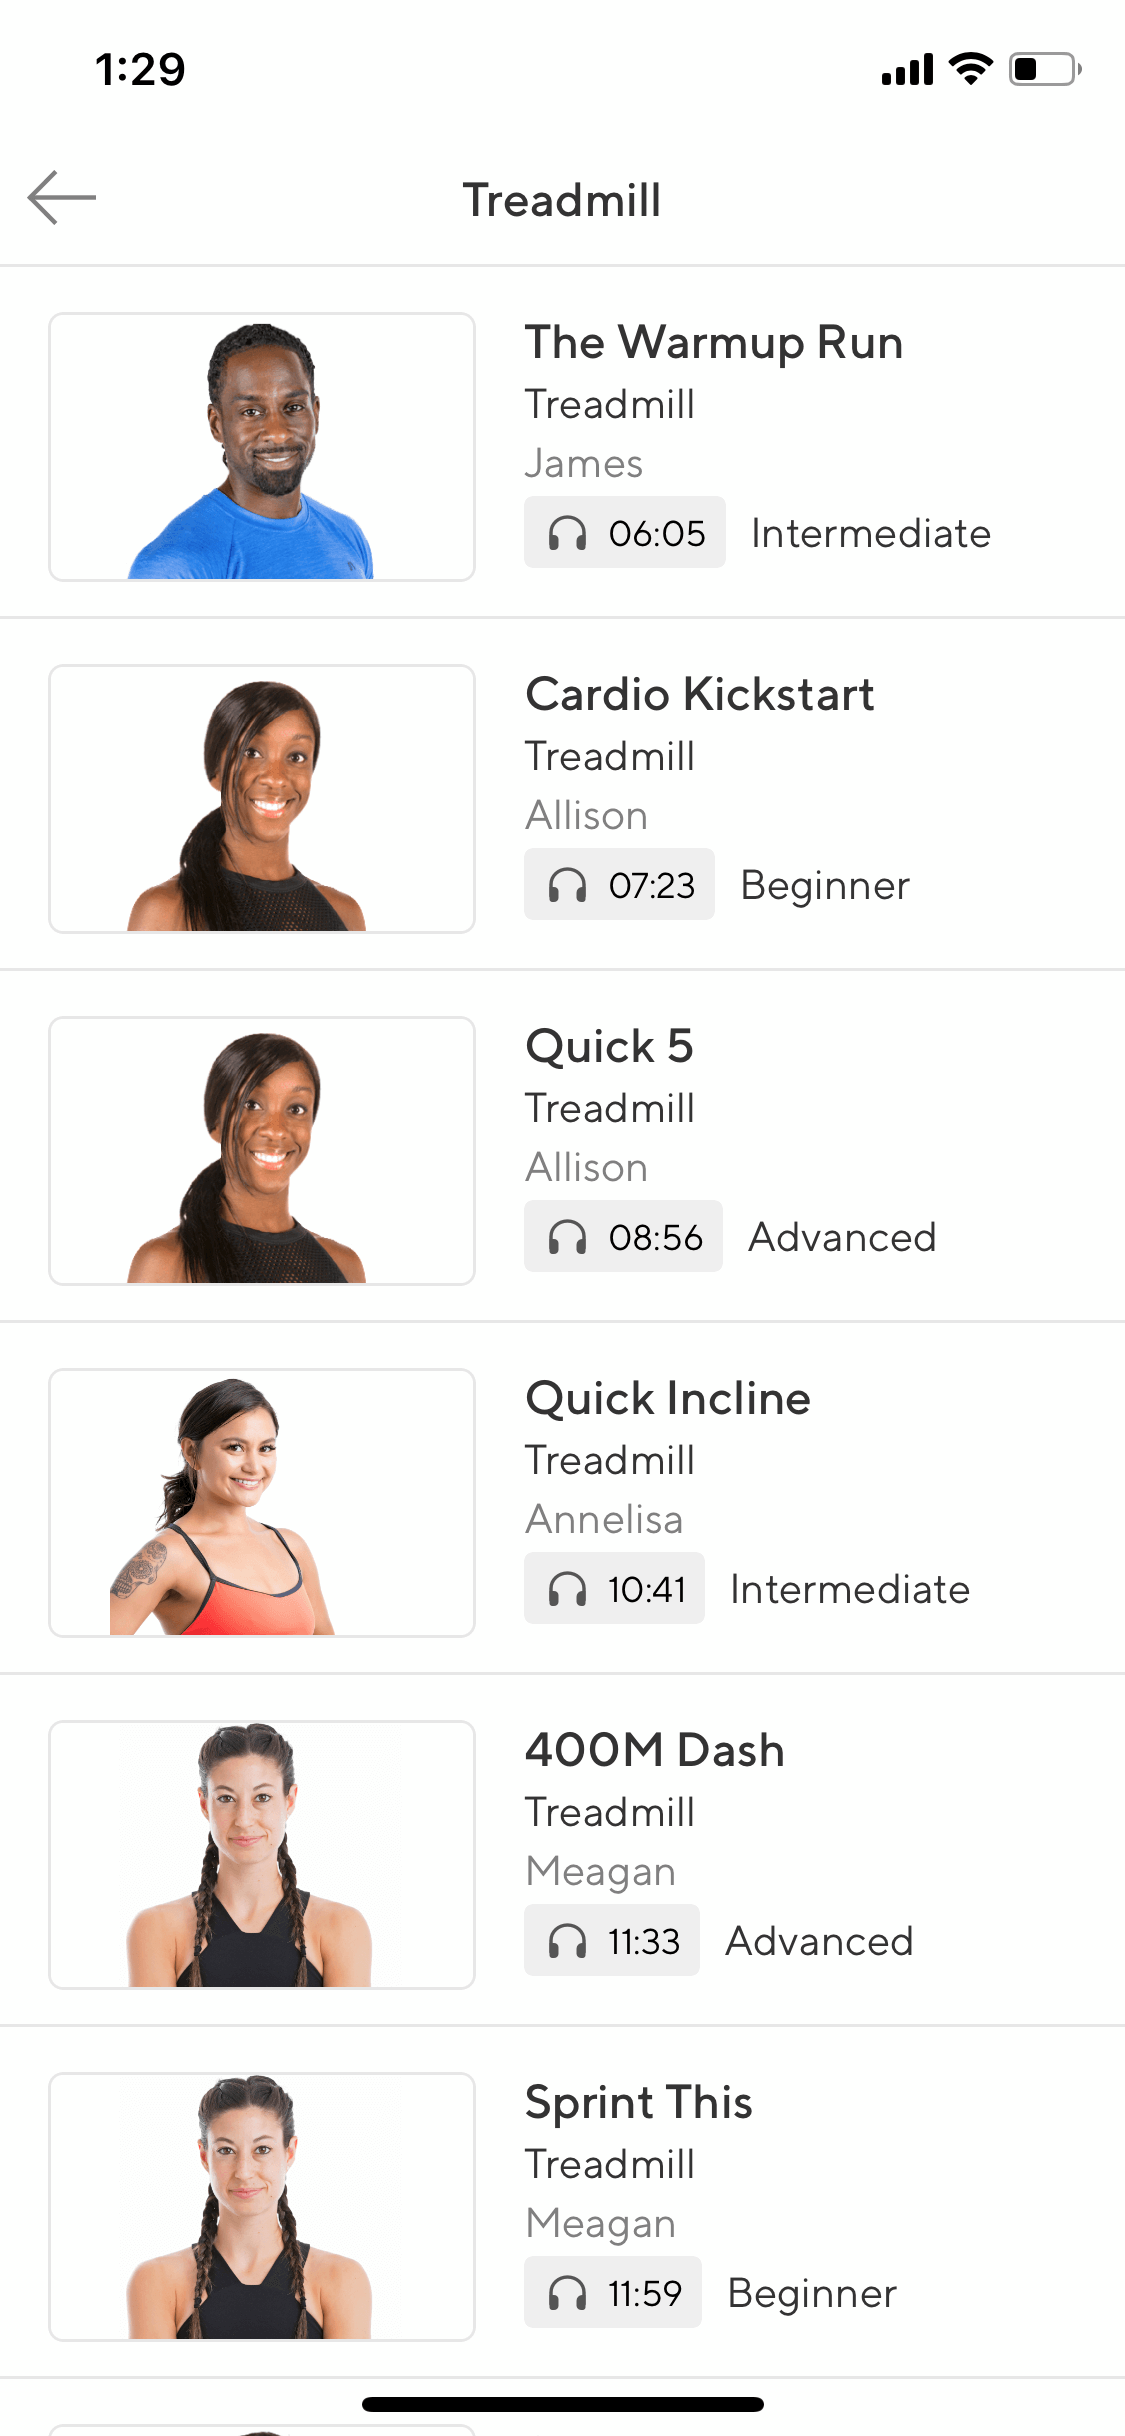Buttons: (12, 129, 132, 259)
